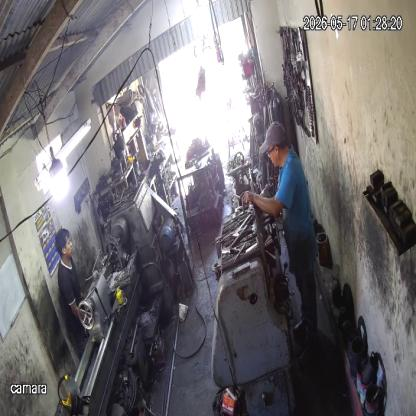lentes: (267, 144, 277, 157)
